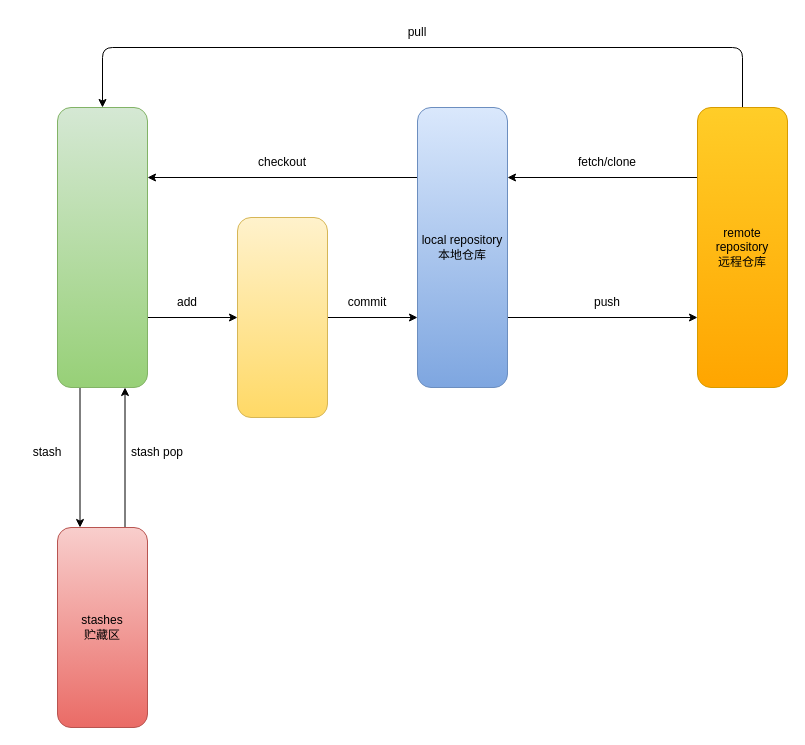
This 805x745 diagram has some shape labels left out. Here are the shapes that lost their labels. From the top down, the centre of each, then its label:
At point (102, 247): "workspace 工作区".
At point (282, 317): "staging area 缓存区".
